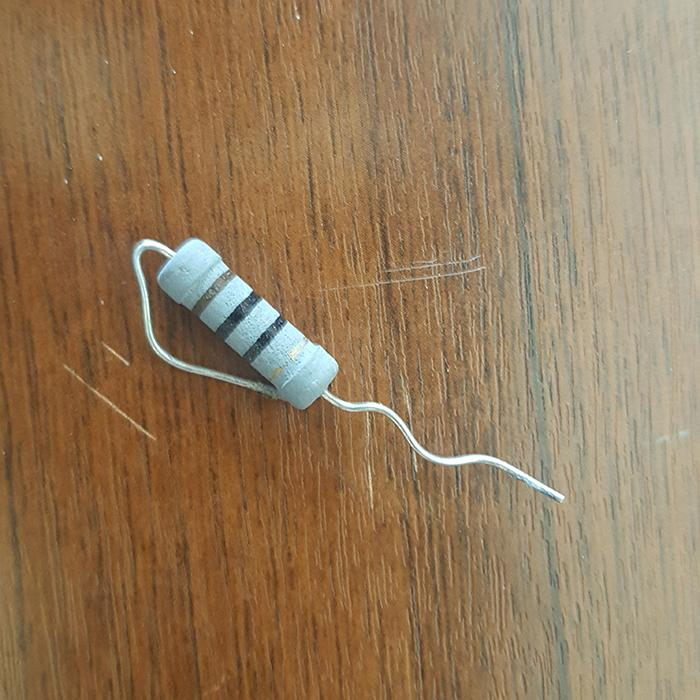resistor: (152, 235, 339, 407)
